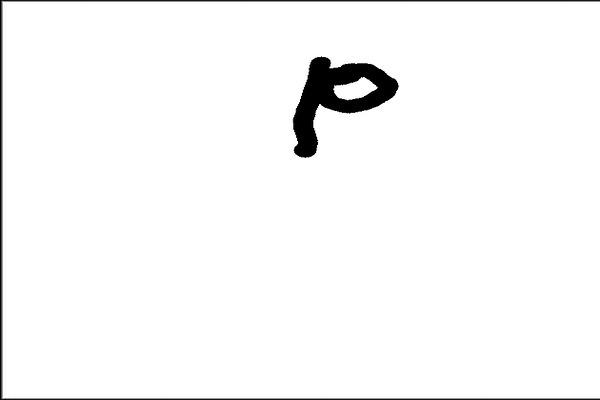P: (286, 51, 400, 165)
